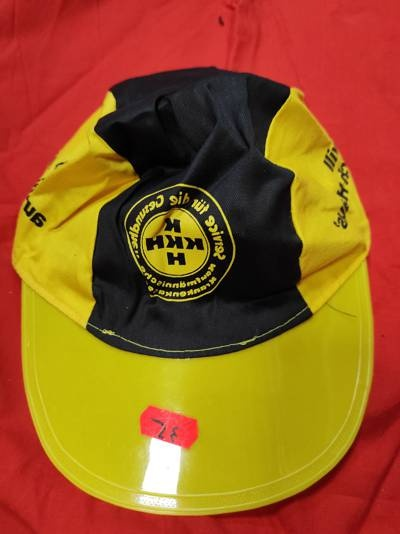Hat: (11, 57, 386, 510)
